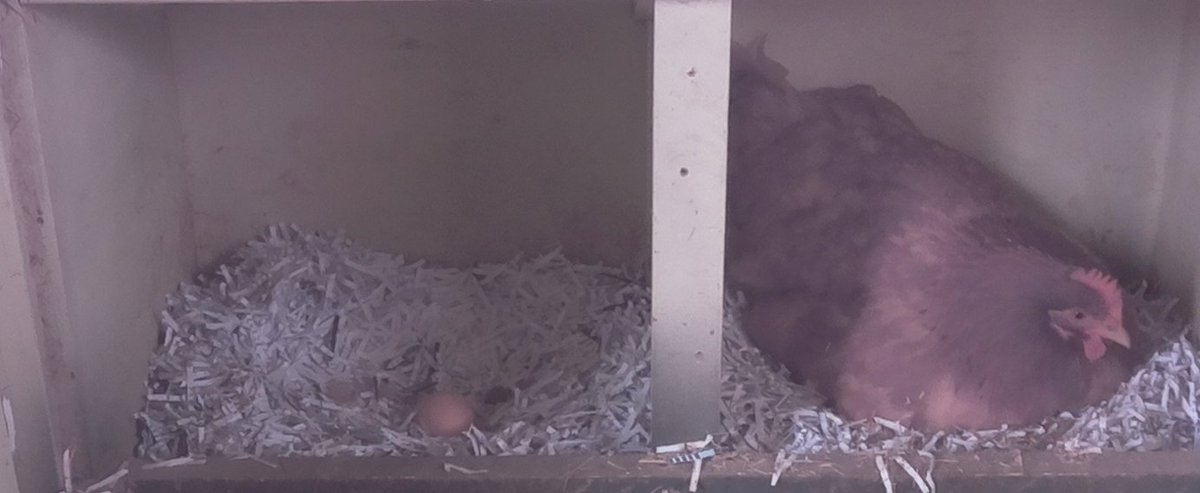egg: (409, 387, 483, 441)
hen: (730, 50, 1151, 440)
